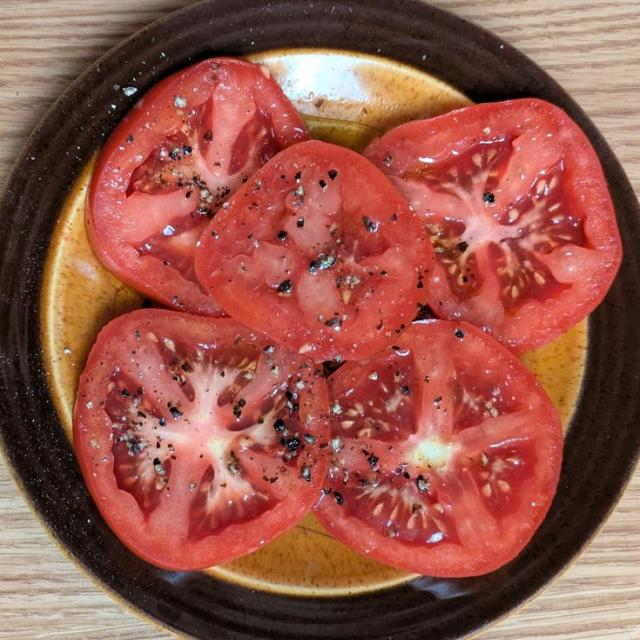sliced_tomato: (75, 310, 329, 569), (365, 99, 620, 352), (317, 321, 562, 576), (87, 58, 308, 315), (196, 142, 433, 360)
